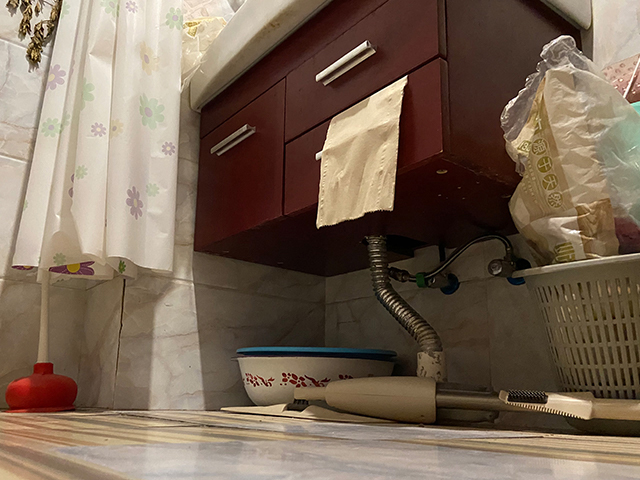trashcan: (507, 251, 640, 434)
